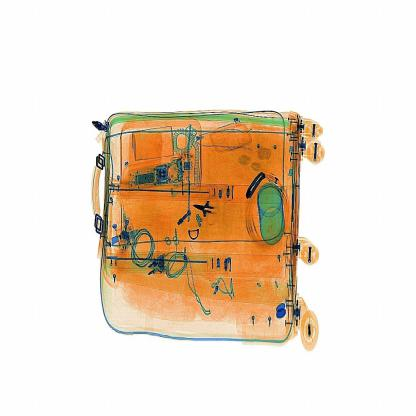gun: (187, 194, 229, 237)
